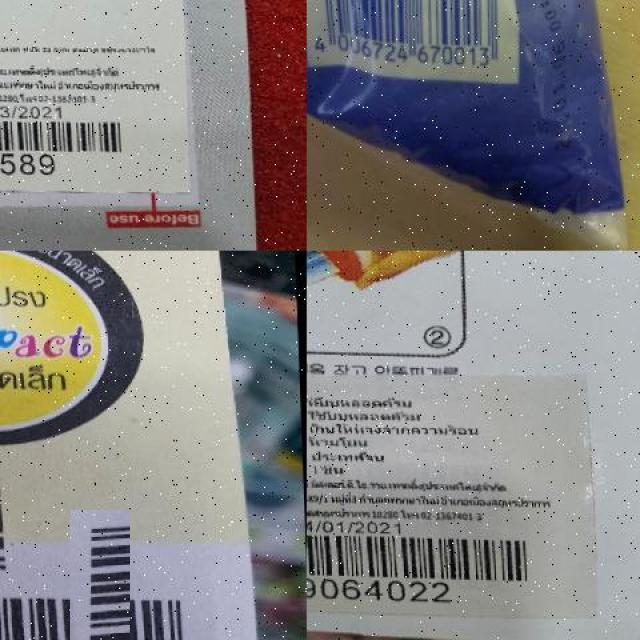Barcode: (306, 523, 542, 609), (306, 0, 521, 86), (34, 545, 165, 640), (0, 110, 140, 182)
